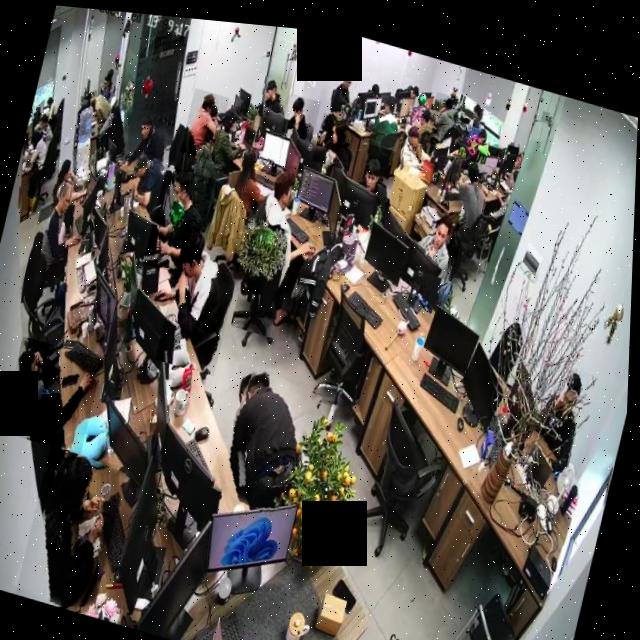person: (19, 443, 131, 617), (233, 156, 333, 341), (212, 357, 323, 515), (158, 219, 247, 375), (4, 334, 106, 455), (145, 161, 217, 275), (525, 348, 593, 465), (36, 174, 93, 292), (408, 195, 468, 272), (394, 94, 447, 178), (205, 96, 255, 182), (17, 110, 58, 214), (230, 140, 282, 222), (116, 103, 176, 174), (448, 148, 498, 227), (181, 84, 230, 159), (125, 148, 176, 215), (313, 106, 361, 165), (350, 144, 395, 201), (52, 155, 98, 207), (370, 85, 409, 145), (426, 83, 462, 141), (282, 87, 322, 135), (250, 69, 290, 117), (329, 58, 361, 109), (281, 622, 368, 640), (459, 89, 489, 131)
